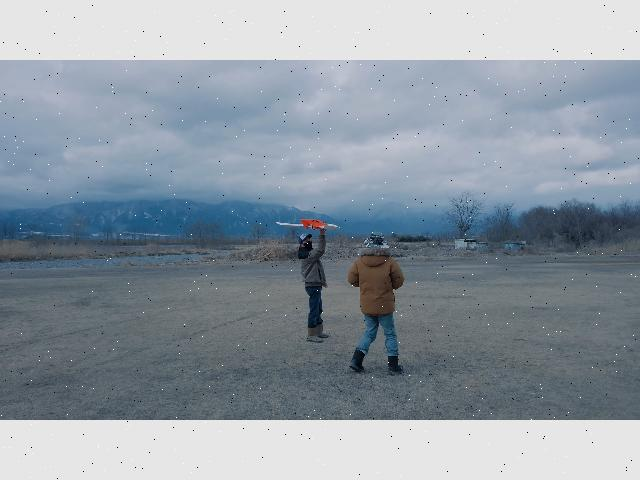Anti-Drone: (274, 217, 342, 232)
